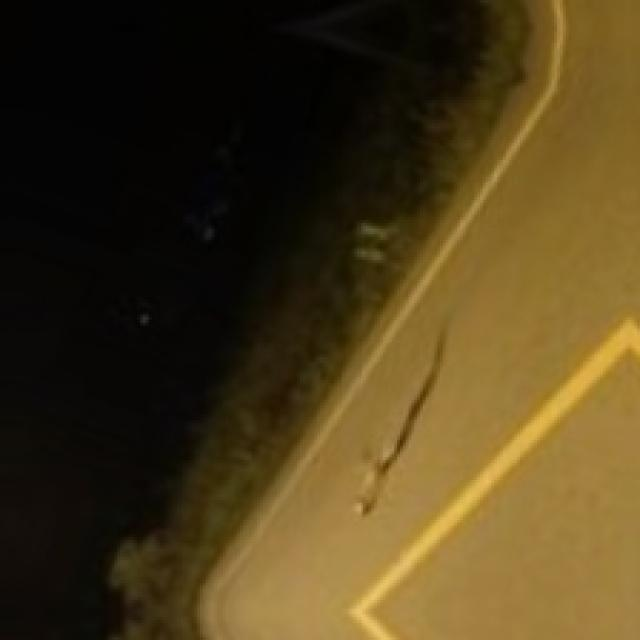king cobra: (111, 0, 526, 637)
